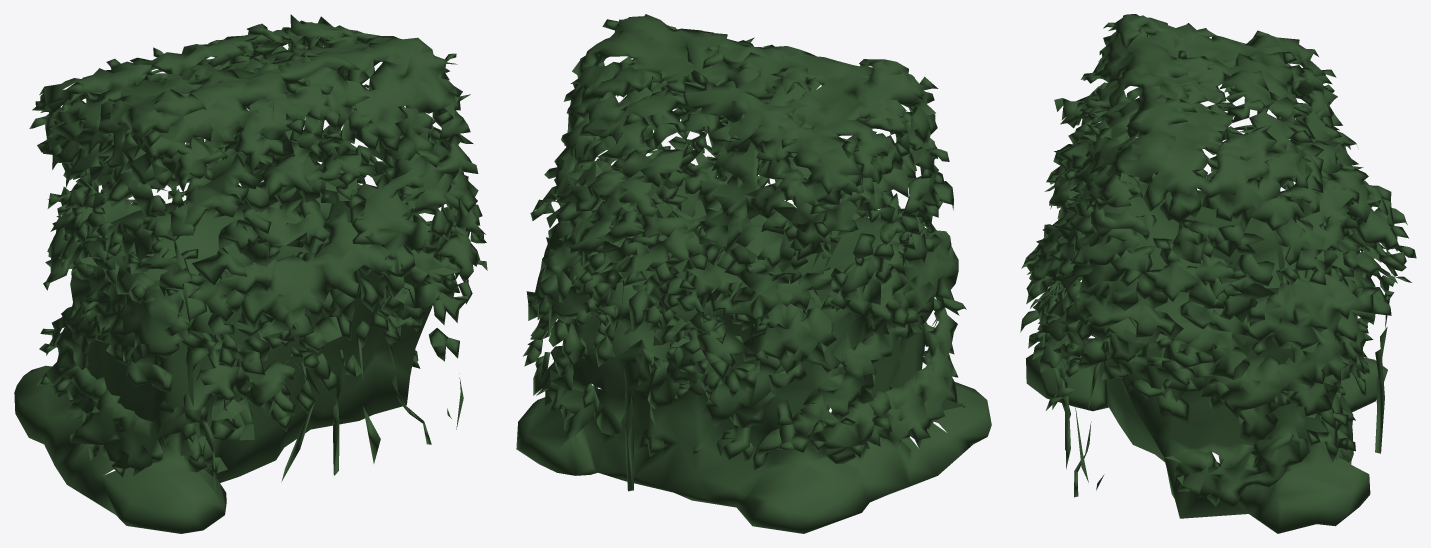
The model's file is gen-ivy-clump-1.glb.
3 views of the same model, side by side, from view 1: azimuth 30°, elevation 25°; view 2: azimuth 150°, elevation 25°; view 3: azimuth 270°, elevation 25° (orthographic). The views are drawn at different scales.
Visible parts, largest first — view 1: gen-ivy-clump-1_part1; view 2: gen-ivy-clump-1_part1; view 3: gen-ivy-clump-1_part1.
Boxes of the visible parts, left/top/right/bottom form: gen-ivy-clump-1_part1: left=14, top=14, right=487, bottom=533; gen-ivy-clump-1_part1: left=516, top=14, right=991, bottom=533; gen-ivy-clump-1_part1: left=1020, top=14, right=1416, bottom=533.
Bounding box in the file's own units: 1633 × 1600 × 1508.
